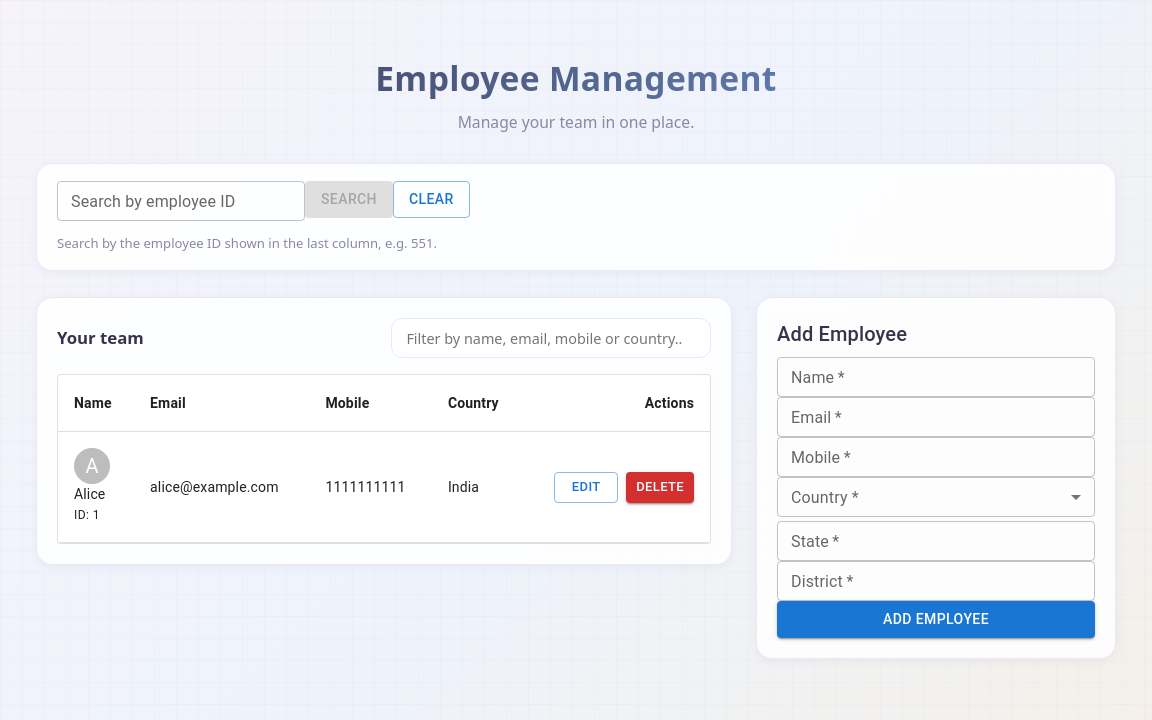
Test: EmployeesContainer › shows not-found message when searching invalid id
Check: the text "Alice" is shown, box 74,486 -> 106,502
Type "999" into the field labelled "Search by employee ID" at (181, 201), box 57,181 -> 305,221
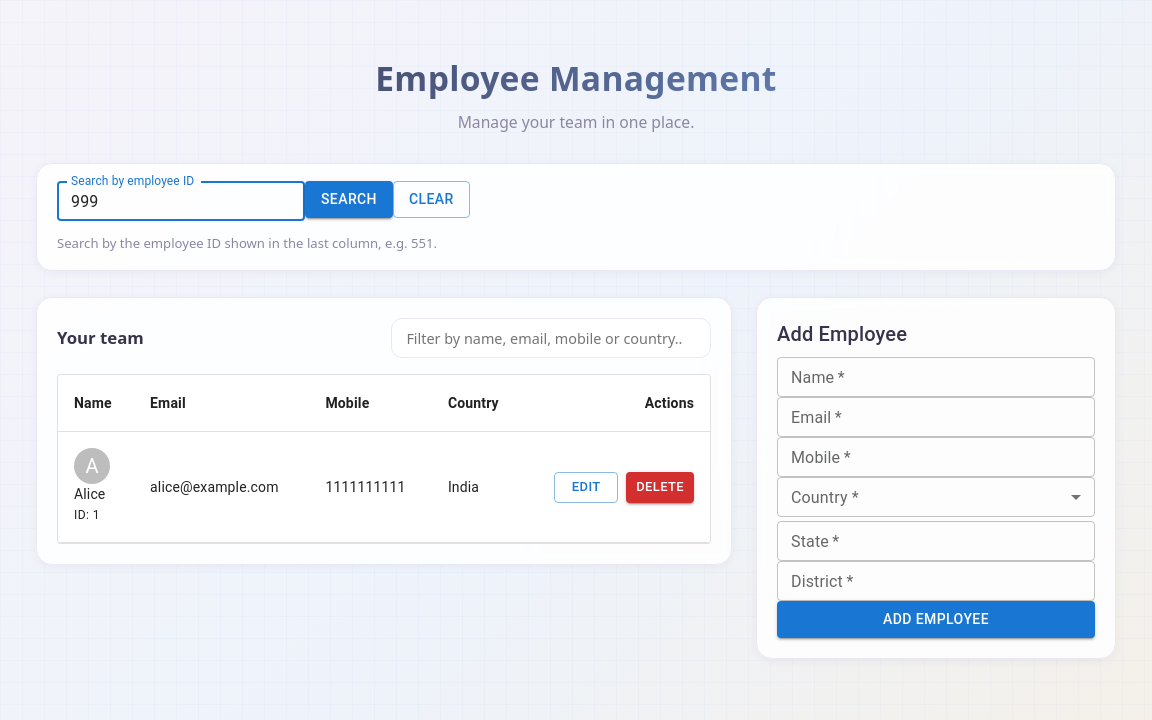
Click the button "Search" at (349, 200), box 305,181 -> 393,218
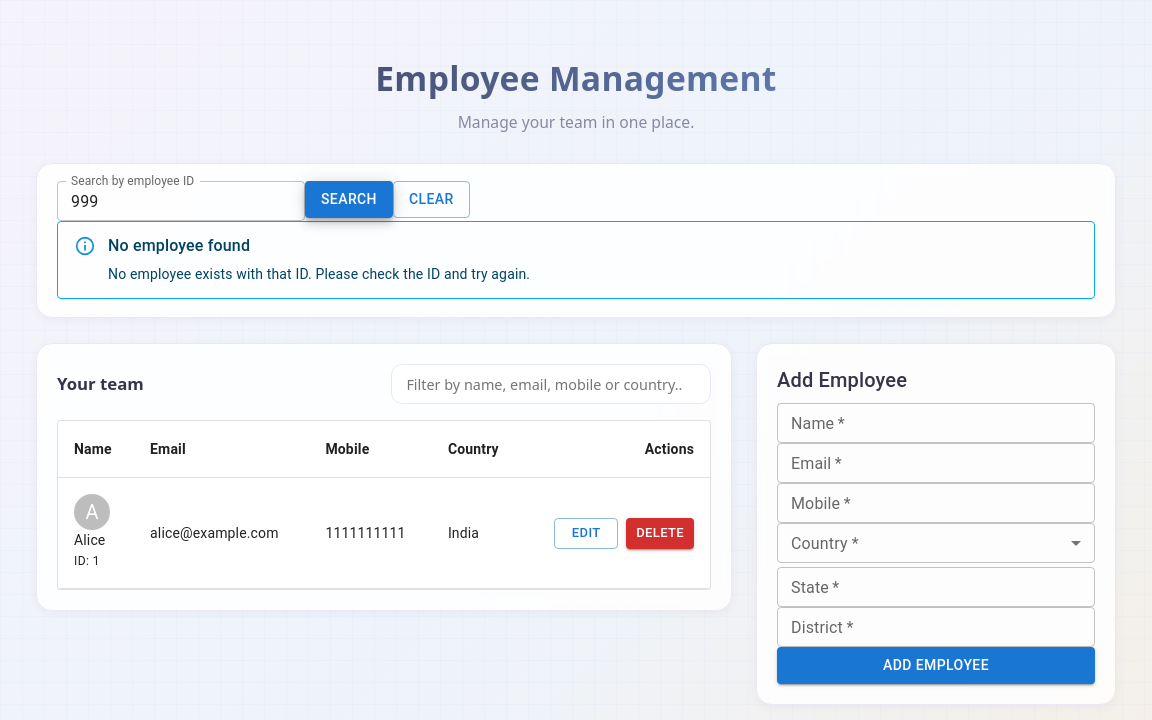
Check: the text "No employee found" is shown, box 108,236 -> 250,255
